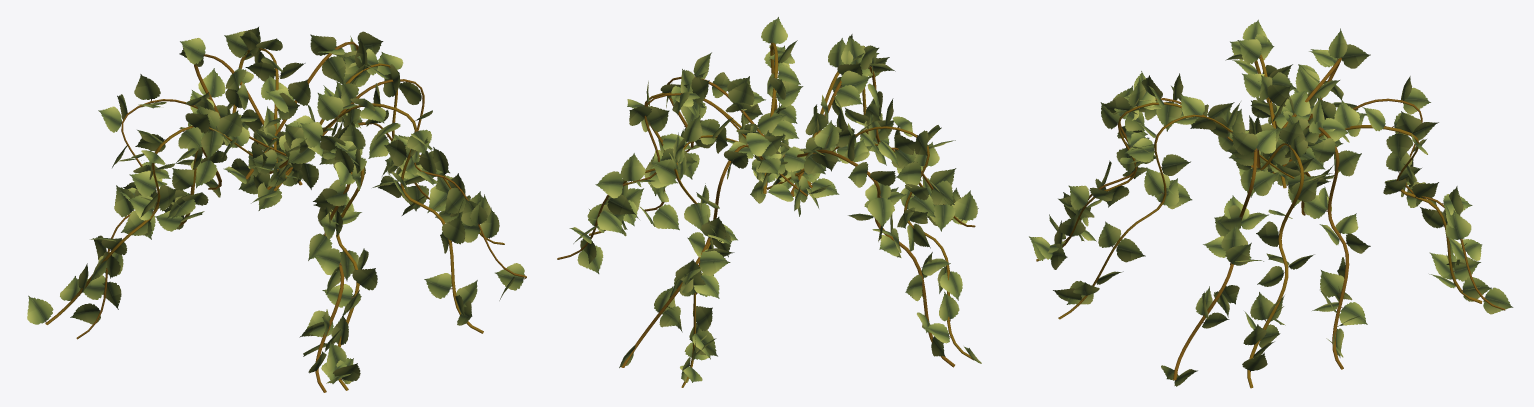
Rendered from 3D_HangingVines.fbx.
The picture shows the model from 3 angles, left to right: view 1: azimuth 30°, elevation 25°; view 2: azimuth 150°, elevation 25°; view 3: azimuth 270°, elevation 25°; orthographic projection. The views are drawn at different scales.
Parts seen in each view (by area): view 1: BezierCurve.004, Plane.077, Plane.162, Plane.147, Plane.238, Plane.312, Plane.260, Plane.101, Plane.217, Plane.216, Plane.341, Plane.088 (+4 smaller); view 2: BezierCurve.004, Plane.336, Plane.212, Plane.259, Plane.233, Plane.187, Plane.302, Plane.158, Plane.303, Plane.342, Plane.188, Plane.255 (+20 smaller); view 3: BezierCurve.004, Plane.297, Plane.203, Plane.205, Plane.152, Plane.294, Plane.277, Plane.156, Plane.190, Plane.194, Plane.095, Plane.148 (+8 smaller).
Part boxes in pixels (x1,y1,x2,y2): BezierCurve.004: (45, 41, 526, 392); Plane.077: (27, 295, 53, 324); Plane.162: (317, 93, 343, 120); Plane.147: (424, 273, 452, 298); Plane.238: (313, 248, 341, 275); Plane.312: (322, 56, 345, 84); Plane.260: (495, 263, 526, 290); Plane.101: (217, 110, 242, 137); Plane.217: (180, 38, 205, 64); Plane.216: (198, 68, 225, 97); Plane.341: (134, 74, 160, 101); Plane.088: (129, 170, 157, 196); BezierCurve.004: (557, 42, 975, 387); Plane.336: (867, 195, 893, 227); Plane.212: (699, 249, 730, 275); Plane.259: (653, 204, 679, 230); Plane.233: (952, 190, 977, 221); Plane.187: (684, 202, 710, 232); Plane.302: (595, 171, 624, 198); Plane.158: (761, 17, 787, 44); Plane.303: (621, 153, 645, 181); Plane.342: (814, 120, 839, 149); Plane.188: (651, 159, 679, 184); Plane.255: (834, 84, 862, 107); BezierCurve.004: (1036, 54, 1505, 388); Plane.297: (1320, 270, 1344, 297); Plane.203: (1483, 287, 1513, 314); Plane.205: (1445, 210, 1471, 241); Plane.152: (1144, 167, 1169, 196); Plane.294: (1339, 302, 1367, 325); Plane.277: (1231, 131, 1258, 155); Plane.156: (1124, 138, 1154, 162); Plane.190: (1386, 132, 1413, 160); Plane.194: (1334, 100, 1359, 128); Plane.095: (1237, 39, 1261, 64); Plane.148: (1116, 238, 1145, 262).
Bounding box in the file's own units: 580 × 321 × 581.
